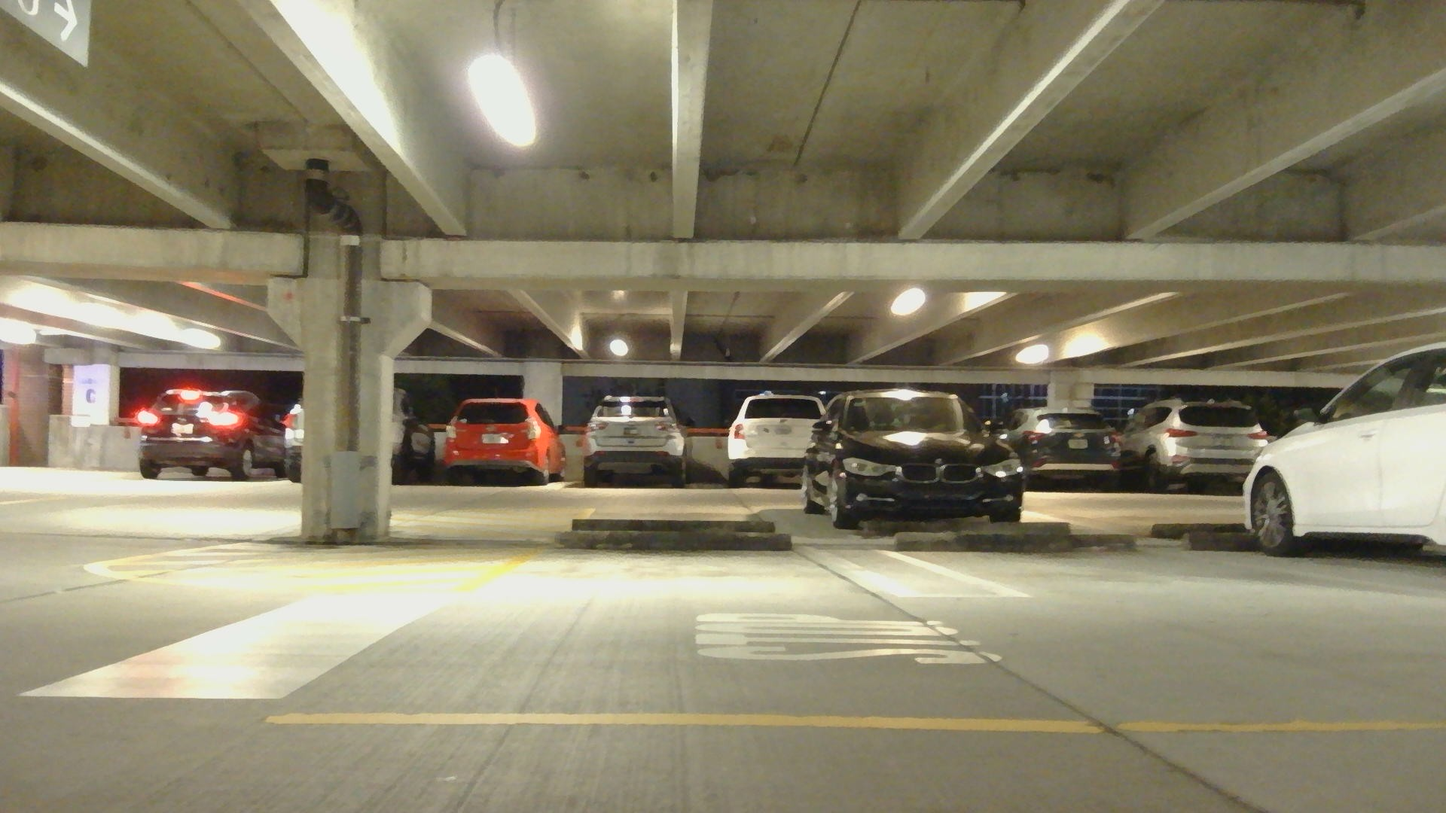empty_spot: (867, 527, 1446, 609), (456, 527, 933, 598)
